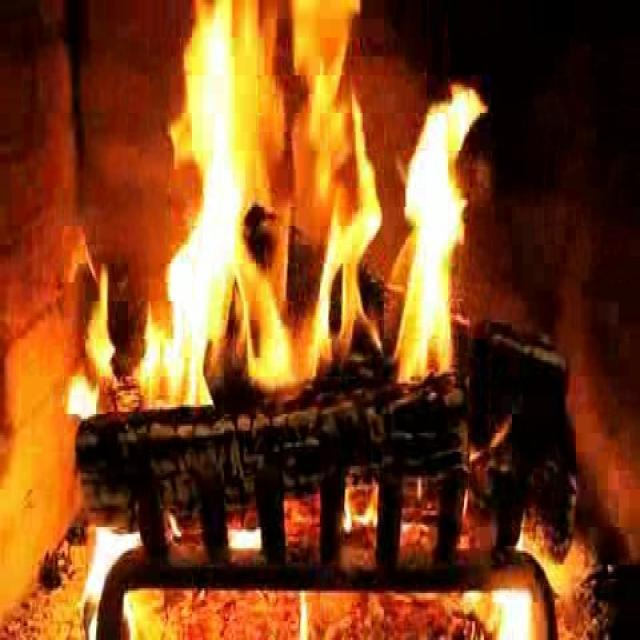Fire: (143, 16, 466, 402)
